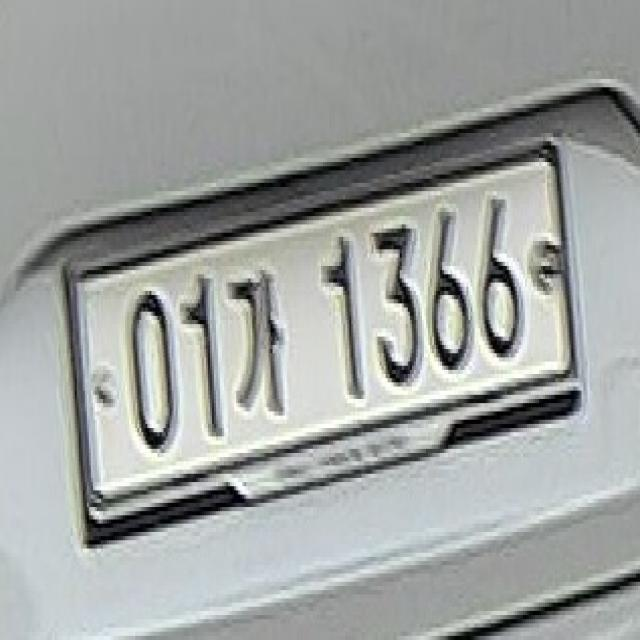0: (118, 289, 178, 458)
1: (321, 230, 364, 403), (183, 272, 224, 442)
3: (370, 218, 420, 382)
6: (475, 185, 527, 368), (424, 199, 474, 380)
ga: (226, 266, 288, 419)
license_plate: (64, 129, 594, 564)
